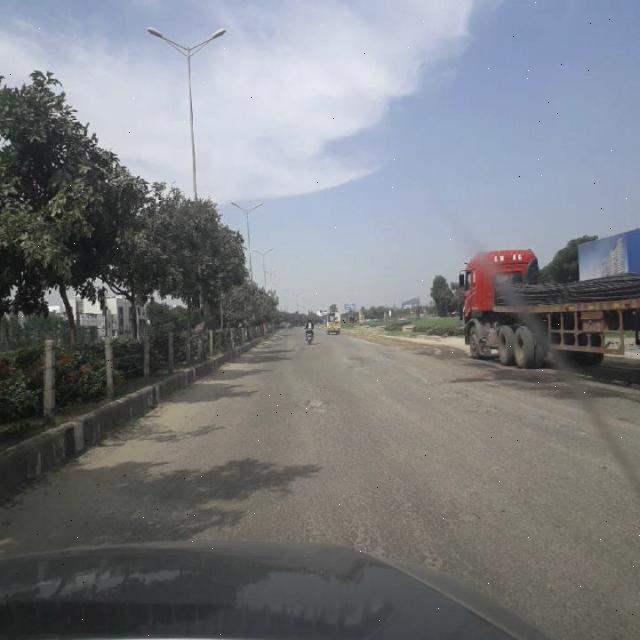D20: (294, 378, 630, 613)
D40: (391, 481, 449, 569), (296, 388, 339, 425), (456, 389, 499, 426), (347, 521, 389, 557), (453, 506, 491, 530)
